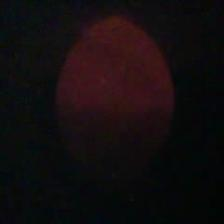fertile: (54, 16, 174, 178)
